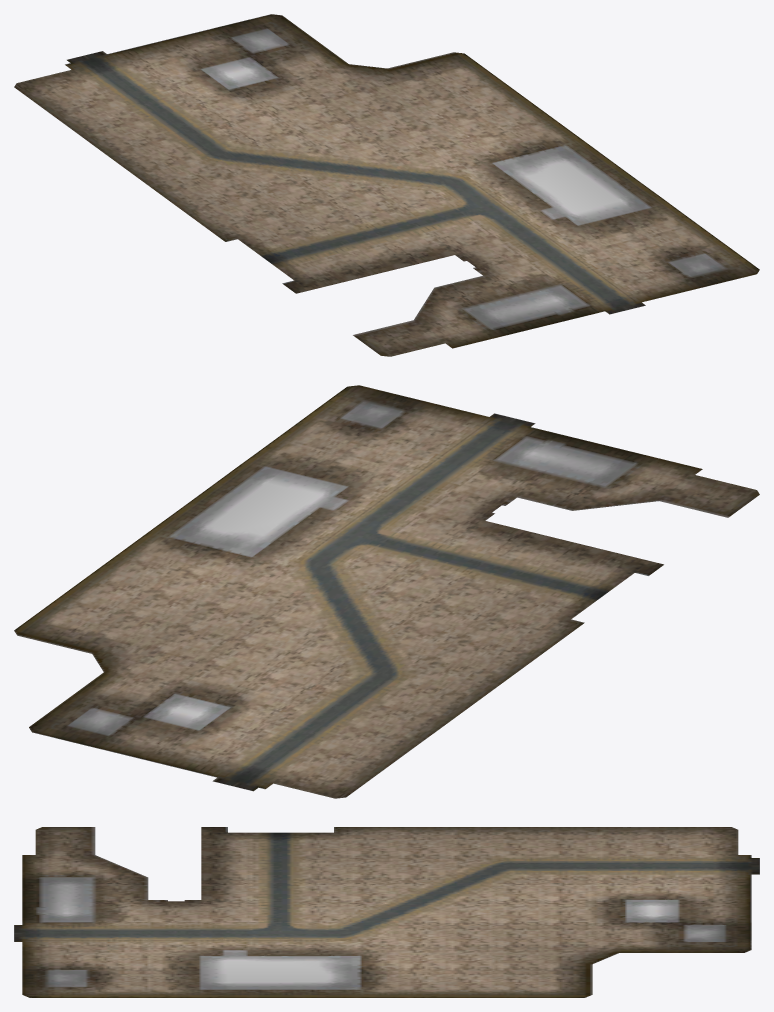
File: M11_FakeBase.glb
3 renders of one model, top to bottom at view 1: azimuth 30°, elevation 25°; view 2: azimuth 150°, elevation 25°; view 3: azimuth 270°, elevation 25°, orthographic. The views are drawn at different scales.
Parts seen in each view (by area): view 1: M11_FAKEBASE; view 2: M11_FAKEBASE; view 3: M11_FAKEBASE.
Boxes of the visible parts, x1,y1,x2,y2 form: M11_FAKEBASE: [14, 14, 759, 356]; M11_FAKEBASE: [14, 385, 759, 798]; M11_FAKEBASE: [14, 827, 759, 997].
Bounding box in the file's own units: 61 × 0 × 112.
Materials: 1 (1 with a texture image).
